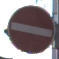No entry: (6, 5, 54, 54)
